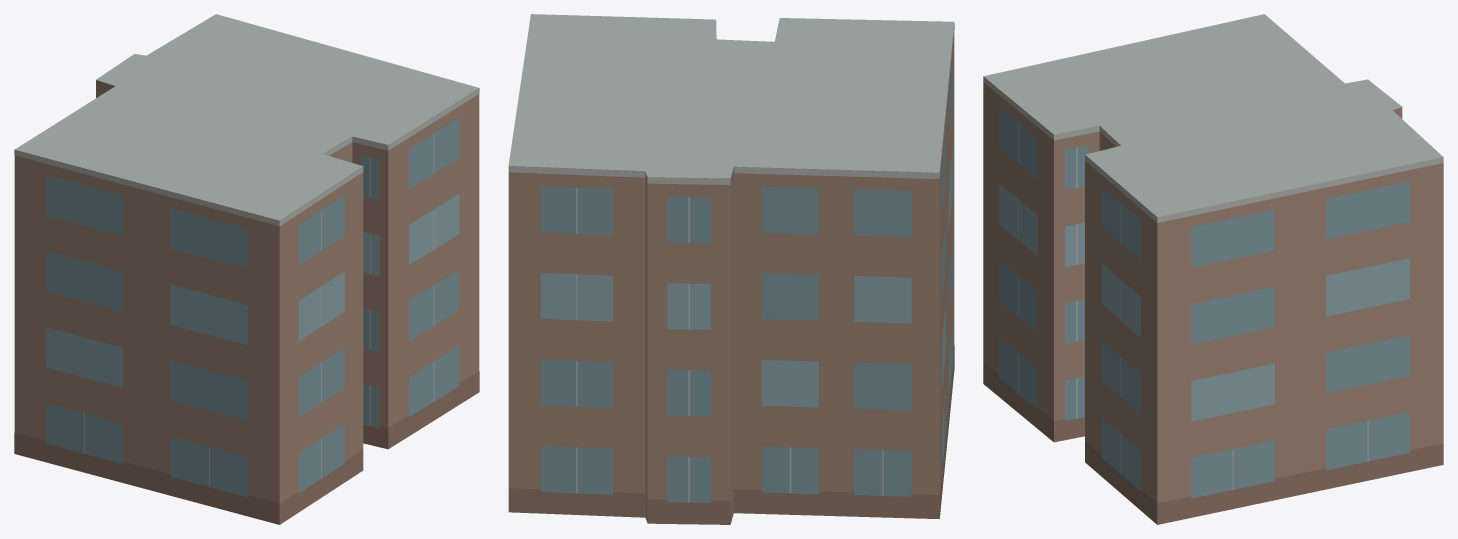
Rendered from survey-upis-33045569.glb.
The picture shows the model from 3 angles, left to right: view 1: azimuth 30°, elevation 25°; view 2: azimuth 150°, elevation 25°; view 3: azimuth 270°, elevation 25°; orthographic projection. The views are drawn at different scales.
Visible parts, largest first — view 1: survey-upis-33045569.tmp; view 2: survey-upis-33045569.tmp; view 3: survey-upis-33045569.tmp.
Boxes of the visible parts, x1=… form: survey-upis-33045569.tmp: x1=14, y1=14, x2=479, y2=524; survey-upis-33045569.tmp: x1=508, y1=14, x2=954, y2=524; survey-upis-33045569.tmp: x1=983, y1=14, x2=1443, y2=524.
Bounding box in the file's own units: 18.43 × 13 × 17.64.
